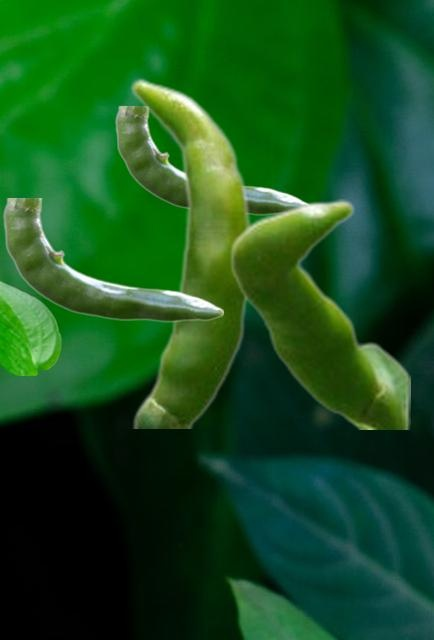green_chili: (129, 77, 254, 427), (229, 199, 409, 428), (3, 198, 222, 321), (115, 106, 306, 214)
